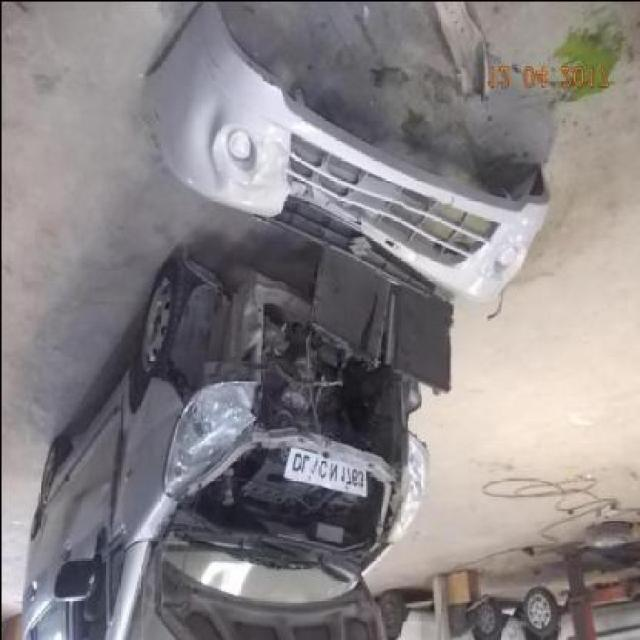damage: (154, 266, 425, 521), (107, 384, 130, 537)
